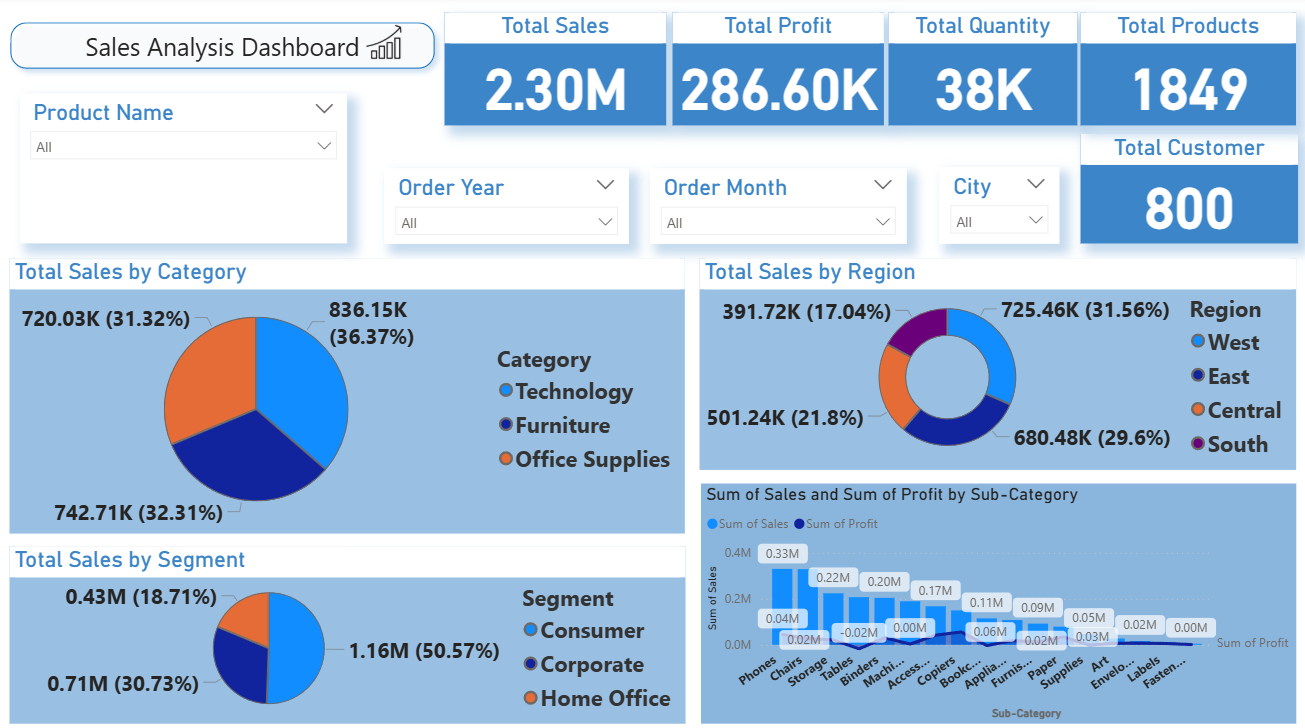

What the dashboard file says about the page in this screenshot:
{"tool":"powerbi","page":{"name":"Sales Analysis","canvas":[1280,720],"ordinal":0},"visuals":[{"type":"slicer","fields":{"Values":["Sales Overview Data xlsx - Sales Data.City"]},"box":[922.2,166.6,116.9,74.5],"z":0},{"type":"slicer","fields":{"Values":["Sales Overview Data xlsx - Sales Data.OrderMonth"]},"box":[640.1,168.1,249.9,73.1],"z":1000},{"type":"slicer","fields":{"Values":["Sales Overview Data xlsx - Sales Data.Order Year"]},"box":[381.4,168.1,238.2,73.1],"z":2000},{"type":"card","title":"Total Sales","fields":{"Values":["Sum(Sales Overview Data xlsx - Sales Data.Sales)"]},"box":[440,16,216,110],"z":3000},{"type":"card","title":"Total Profit","fields":{"Values":["Sum(Sales Overview Data xlsx - Sales Data.Profit)"]},"box":[662,16,206,110],"z":4000},{"type":"card","title":"Total Quantity","fields":{"Values":["Sum(Sales Overview Data xlsx - Sales Data.Quantity)"]},"box":[872,16,184,110],"z":5000},{"type":"card","title":"Total Customer","fields":{"Values":["Sales Overview Data xlsx - Sales Data.TotalCustomers"]},"box":[1059.6,134.5,211.9,106.7],"z":6000},{"type":"card","title":"Total Products","fields":{"Values":["Sales Overview Data xlsx - Sales Data.Total Products"]},"box":[1060,16,210,110],"z":7000},{"type":"pieChart","title":"Total Sales by Category ","fields":{"Y":["Sum(Sales Overview Data xlsx - Sales Data.Sales)"],"Category":["Sales Overview Data xlsx - Sales Data.Category"]},"box":[16,256,658,268],"z":8000},{"type":"donutChart","title":"Total Sales by Region","fields":{"Y":["Sum(Sales Overview Data xlsx - Sales Data.Sales)"],"Category":["Sales Overview Data xlsx - Sales Data.Region"]},"box":[688.6,255.7,581.4,205.7],"z":9000},{"type":"pieChart","title":"Total Sales by Segment","fields":{"Y":["Sum(Sales Overview Data xlsx - Sales Data.Sales)"],"Category":["Sales Overview Data xlsx - Sales Data.Segment"]},"box":[15.7,535.7,658.6,172.9],"z":10000},{"type":"shape","box":[7.3,16.1,432.6,64.3],"z":11000},{"type":"image","box":[333.8,3.8,95,80],"z":12000},{"type":"slicer","fields":{"Values":["Sales Overview Data xlsx - Sales Data.Product Name"]},"box":[26.3,95,318.6,146.1],"z":13000},{"type":"lineClusteredColumnComboChart","fields":{"Y":["Sum(Sales Overview Data xlsx - Sales Data.Sales)"],"Category":["Sales Overview Data xlsx - Sales Data.Sub-Category"],"Y2":["Sum(Sales Overview Data xlsx - Sales Data.Profit)"]},"box":[690,474.3,580,234.3],"z":14000}]}

Visuals, with their boxes in screenshot pixels (x1, y1, x2, y2), scaled from the page's 1280x720 canvas onto the 1305x728 screenshot:
slicer - Sales Overview Data xlsx - Sales Data.City: (left=940, top=168, right=1059, bottom=244)
slicer - Sales Overview Data xlsx - Sales Data.OrderMonth: (left=653, top=170, right=907, bottom=244)
slicer - Sales Overview Data xlsx - Sales Data.Order Year: (left=389, top=170, right=632, bottom=244)
"Total Sales" card: (left=449, top=16, right=669, bottom=127)
"Total Profit" card: (left=675, top=16, right=885, bottom=127)
"Total Quantity" card: (left=889, top=16, right=1077, bottom=127)
"Total Customer" card: (left=1080, top=136, right=1296, bottom=244)
"Total Products" card: (left=1081, top=16, right=1295, bottom=127)
"Total Sales by Category " pieChart: (left=16, top=259, right=687, bottom=530)
"Total Sales by Region" donutChart: (left=702, top=259, right=1295, bottom=467)
"Total Sales by Segment" pieChart: (left=16, top=542, right=687, bottom=716)
shape: (left=7, top=16, right=448, bottom=81)
image: (left=340, top=4, right=437, bottom=85)
slicer - Sales Overview Data xlsx - Sales Data.Product Name: (left=27, top=96, right=352, bottom=244)
lineClusteredColumnComboChart - Sum(Sales Overview Data xlsx - Sales Data.Sales) x Sales Overview Data xlsx - Sales Data.Sub-Category: (left=703, top=480, right=1295, bottom=716)
